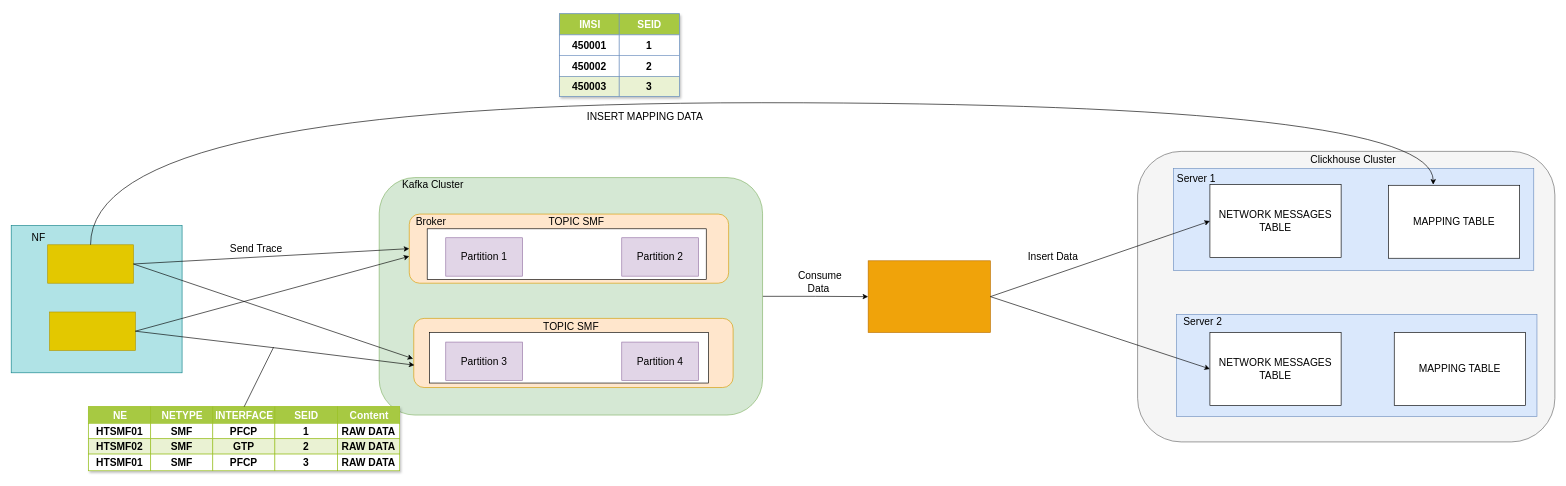
Image size: 1566x486. Some labels were removed from this diagram. Here are the shapes that lost their labels. From the top down, the centre of each, then its label:
At (x=90, y=263): "LOGIC".
At (x=929, y=296): "CONNECTOR".
At (x=92, y=330): "GATEWAY".
